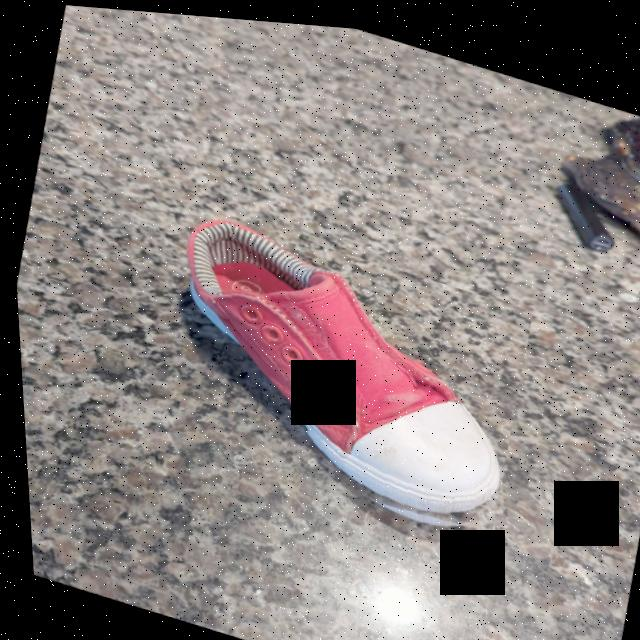shoe: (131, 198, 541, 544)
